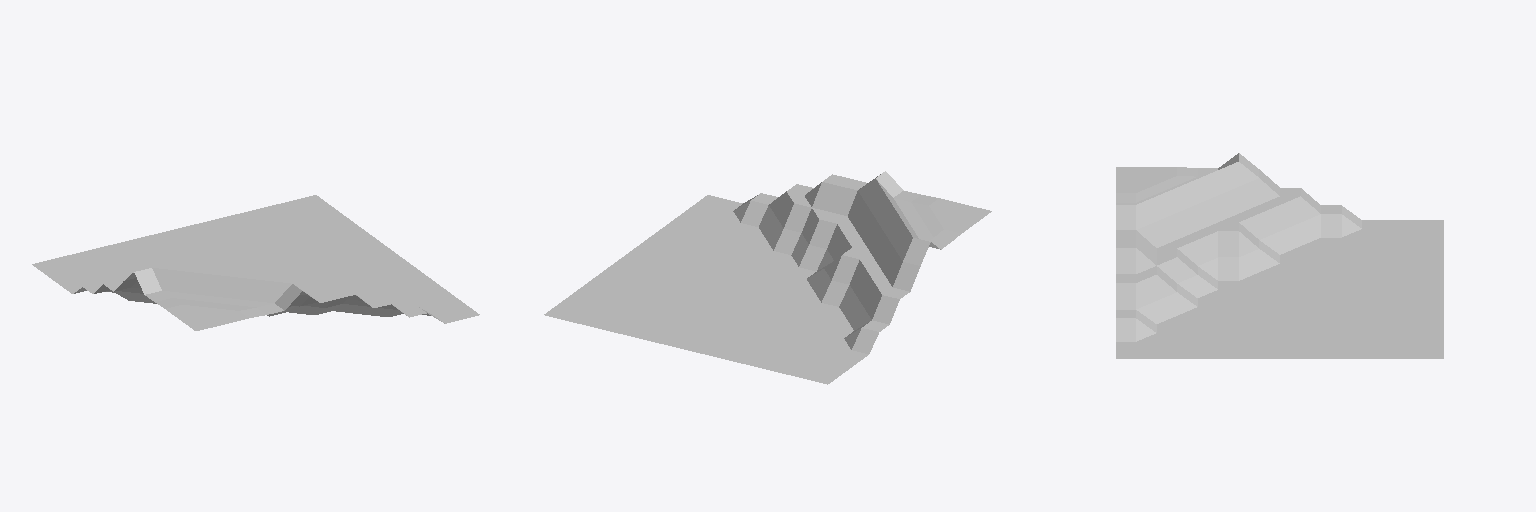
Rendered from cornerRock_3.obj.
3 views of the same model, side by side, from view 1: azimuth 30°, elevation 25°; view 2: azimuth 150°, elevation 25°; view 3: azimuth 270°, elevation 25° (orthographic).
Visible parts, largest first — view 1: cornerRock_3; view 2: cornerRock_3; view 3: cornerRock_3.
Part boxes in pixels (left/top/right/bottom): cornerRock_3: left=32, top=195, right=479, bottom=330; cornerRock_3: left=544, top=171, right=991, bottom=384; cornerRock_3: left=1116, top=153, right=1443, bottom=358.
Bounding box in the file's own units: 16 × 3.62 × 16.